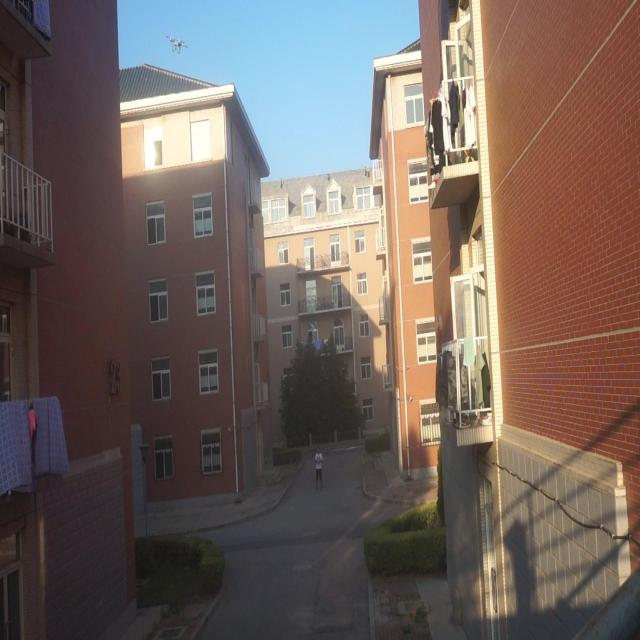UAV: (165, 34, 188, 55)
